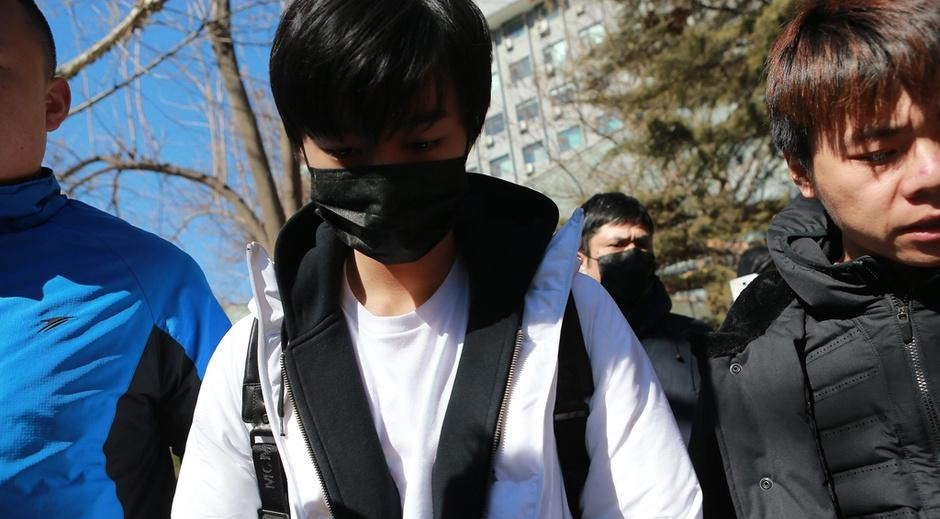face: (802, 63, 939, 266), (1, 12, 48, 184)
face_mask: (302, 75, 470, 262), (590, 225, 652, 292)
